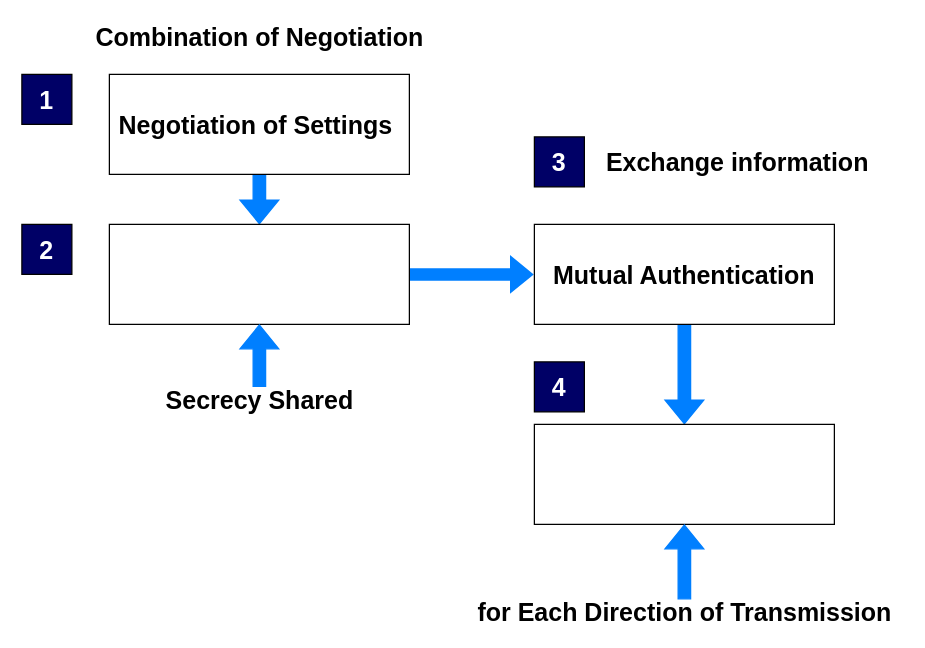
Some shapes in this 925 by 648 pixel diagram are drawn without their labels. Here are the shapes that lost their labels. From the top down, the centre of each, then its label:
At pixel 258 273: "Generate Diffi helman".
At pixel 683 473: "Definition of Both SA".
